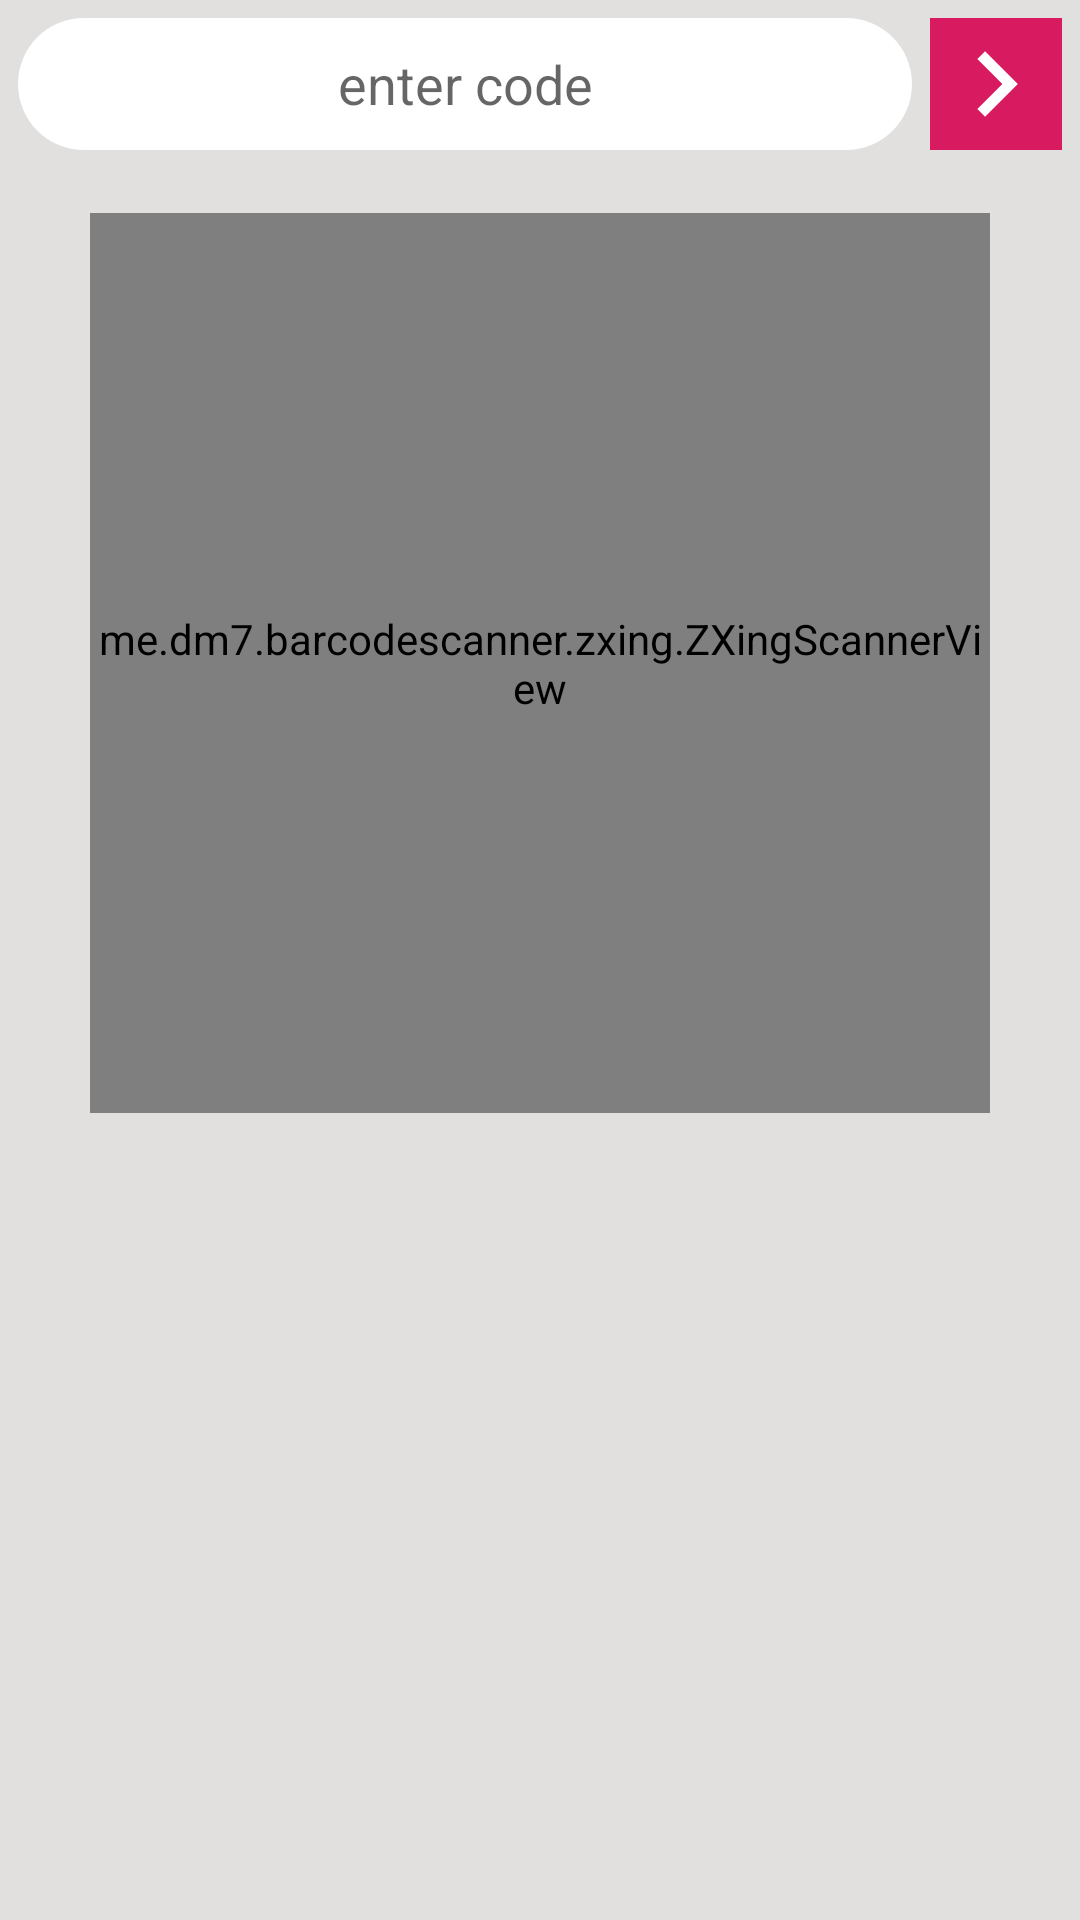

Icons on this 1080 × 1920 Android screen, each with the point to tap as (x,y):
next: (996,84)
